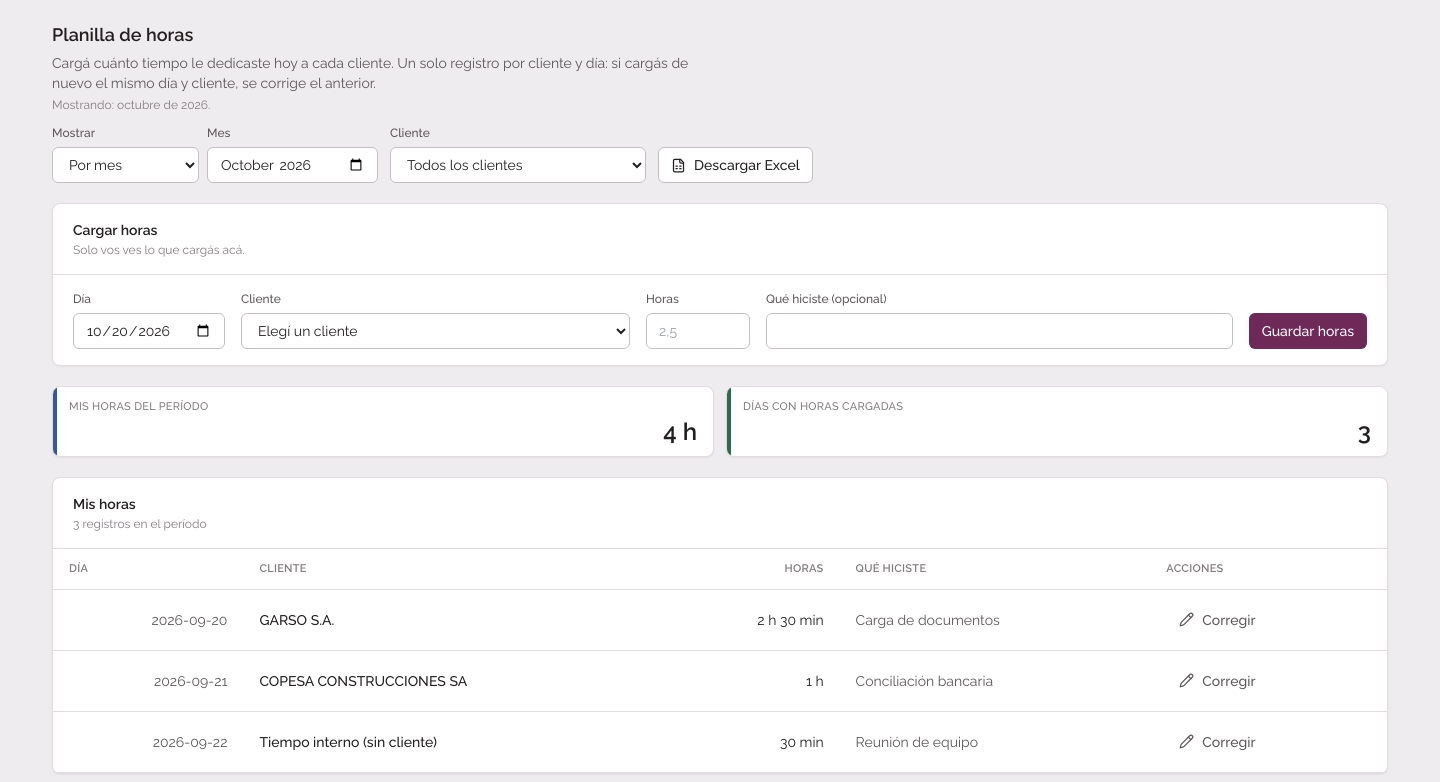
Test: planilla de horas › filtro por cliente (2026-10-02) › recorta «Mis horas», sus indicadores y el resumen del equipo, y «Todos los clientes» lo devuelve todo
This screenshot has width=1440, height=782.
Check: the heading "Planilla de horas" is shown, box [52,24,193,45]
Check: the text "Conciliación bancaria" is shown, box [840,650,1150,711]
Select "GARSO S.A." in the dropdown labelled "Cliente" below "Mes": {"x": 518, "y": 165} [390,147,646,183]
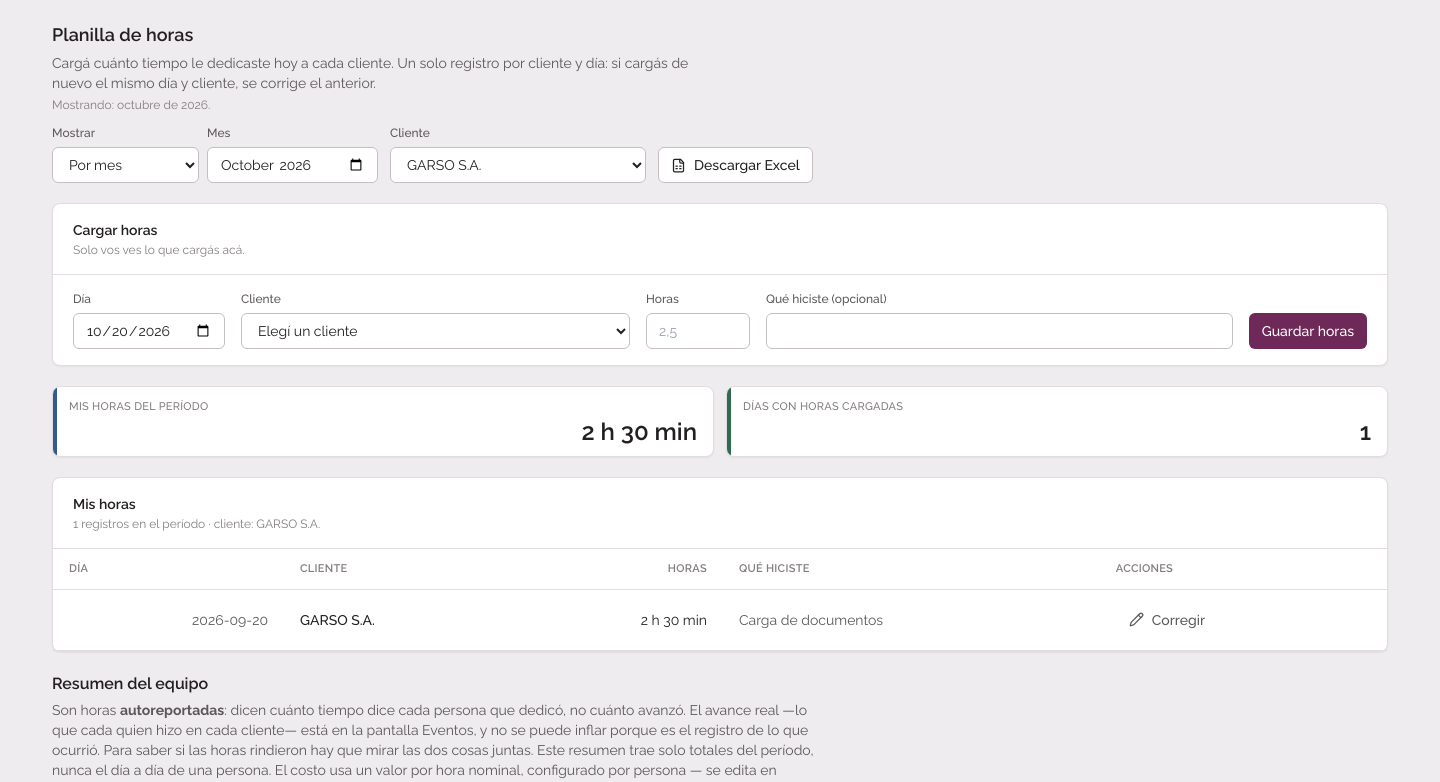
Check: the text "Conciliación bancaria" is gone
Check: the text "Reunión de equipo" is gone
Check: the text "Mis horas del período" shows "2 h 30 min", box [581,416,697,446]
Select "Todos los clientes" in the dropdown labelled "Cliente" below "Mes": {"x": 518, "y": 165} [390,147,646,183]
(page scrolled)
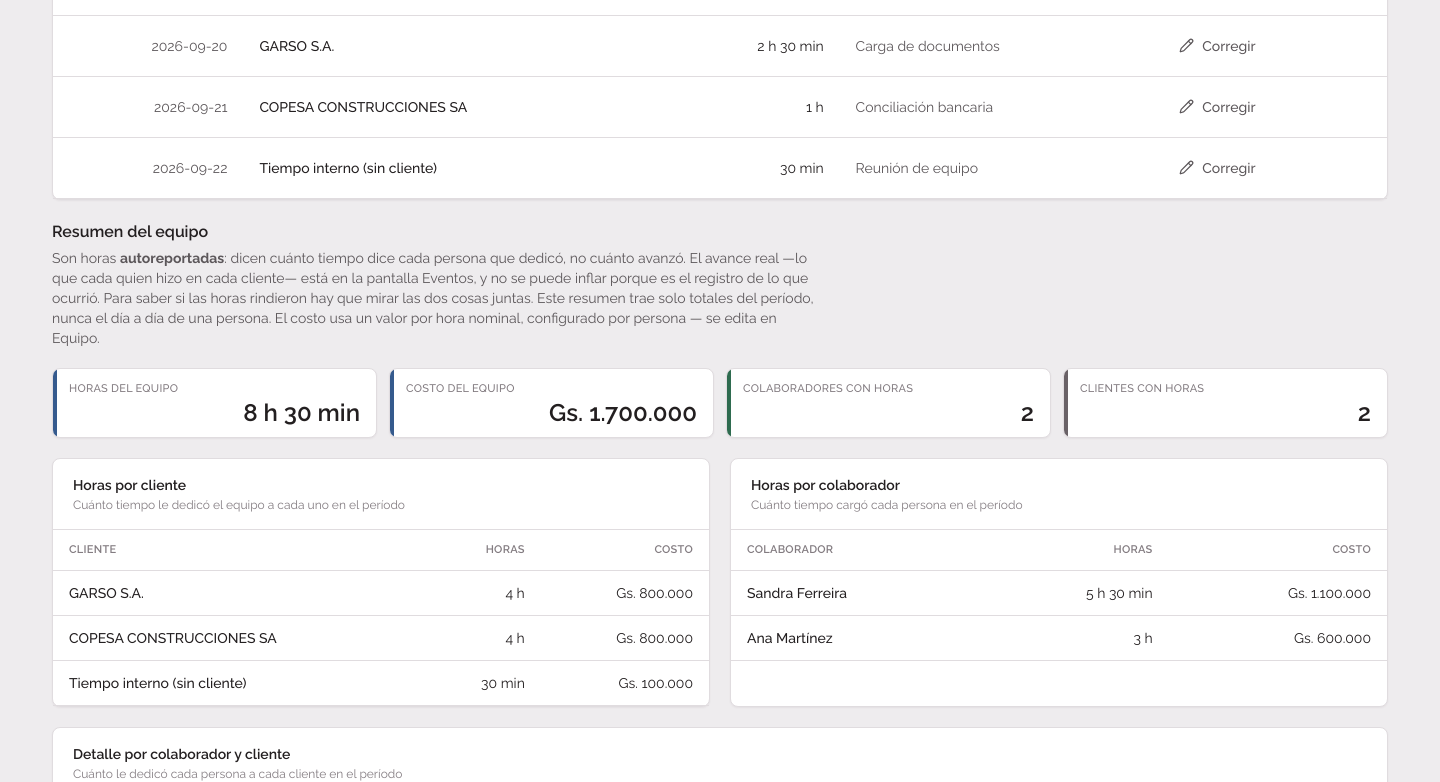
Check: the text "Conciliación bancaria" is shown, box [840,76,1150,137]
Check: the text "Reunión de equipo" is shown, box [840,137,1150,198]
Check: the text "Tiempo interno (sin cliente)" below "Horas por cliente" is shown, box [69,675,247,691]
